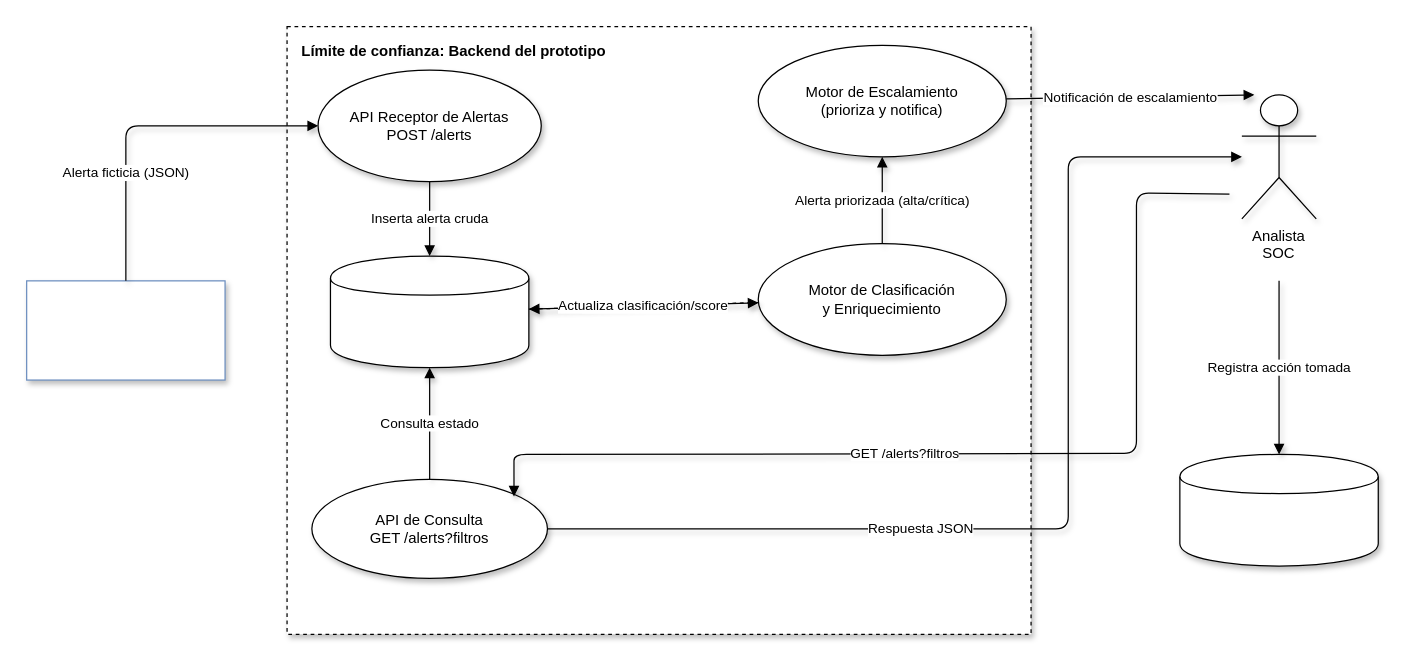
Image size: 1407x665. Some labels were removed from this diagram. The shapes that lost their labels are listed below. From the top down, each one's centre as x and y in pixels, then its label:
pixel 126 332: CrowdStrike Falcon (simulado) Generador de alertas ficticias
pixel 430 313: Alerts DB (alertas + estado)
pixel 1280 511: Registro de Acciones (audit log)
